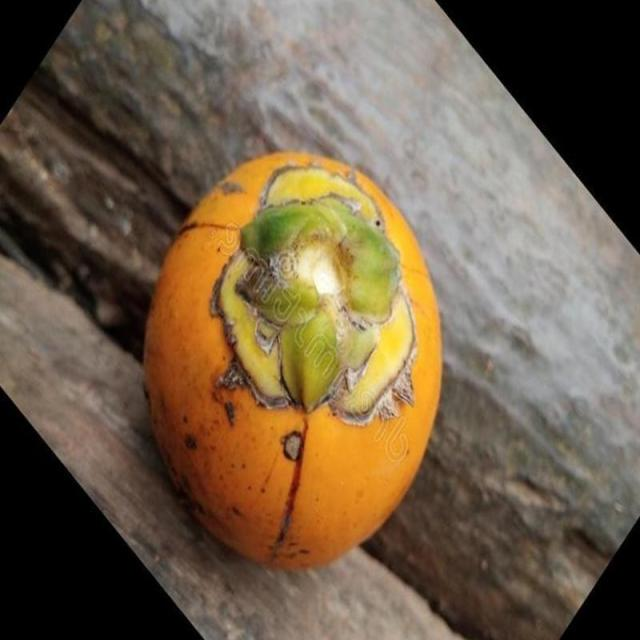good: (142, 153, 443, 573)
